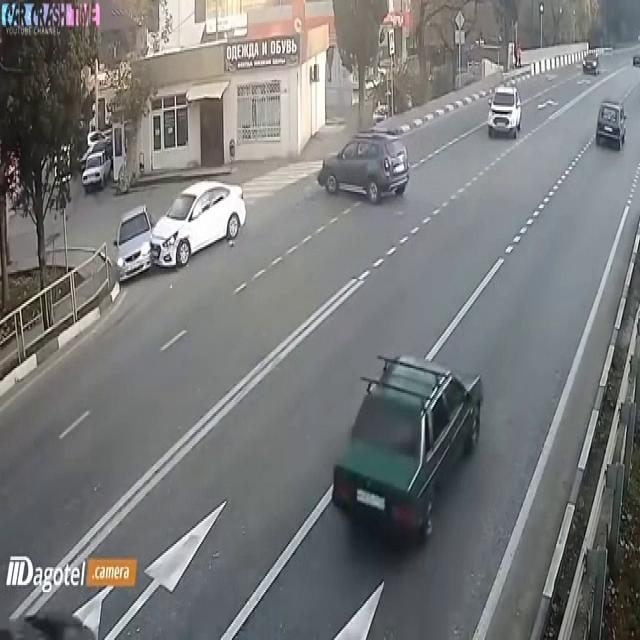accident: (101, 165, 212, 289)
